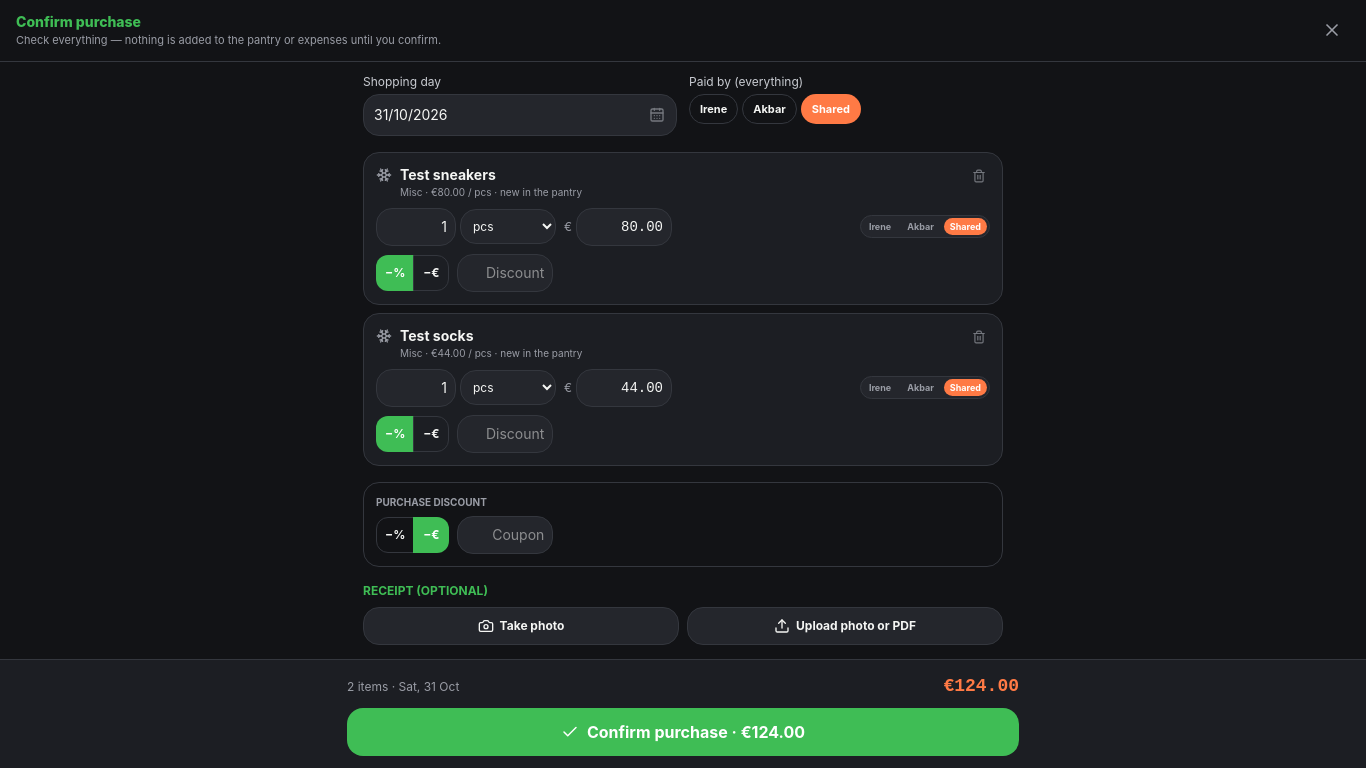
it: Confirm purchase: the coupon share is visible per item before confirming › an item discount and the coupon: "€80.00 → €56.00 (−30%) · coupon −€x.xx → €y.yy"
Type "30" into the field named "Discount for Test sneakers" at point(505, 272), box [457,254,553,292]
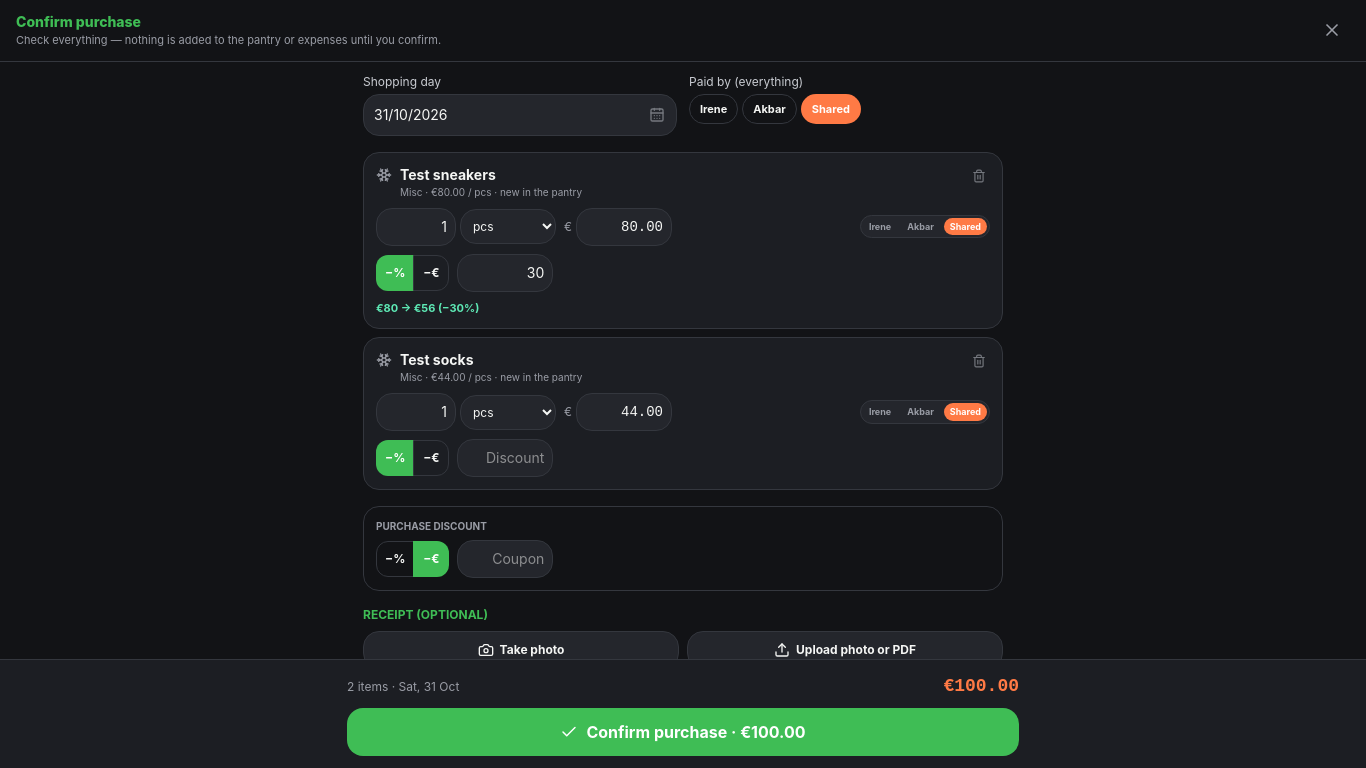
Expected: the text "€80 → €56 (−30%)" is shown, [376,300,479,314]
Type "10" into the field named "Purchase discount" at point(505, 559), box [457,540,553,578]
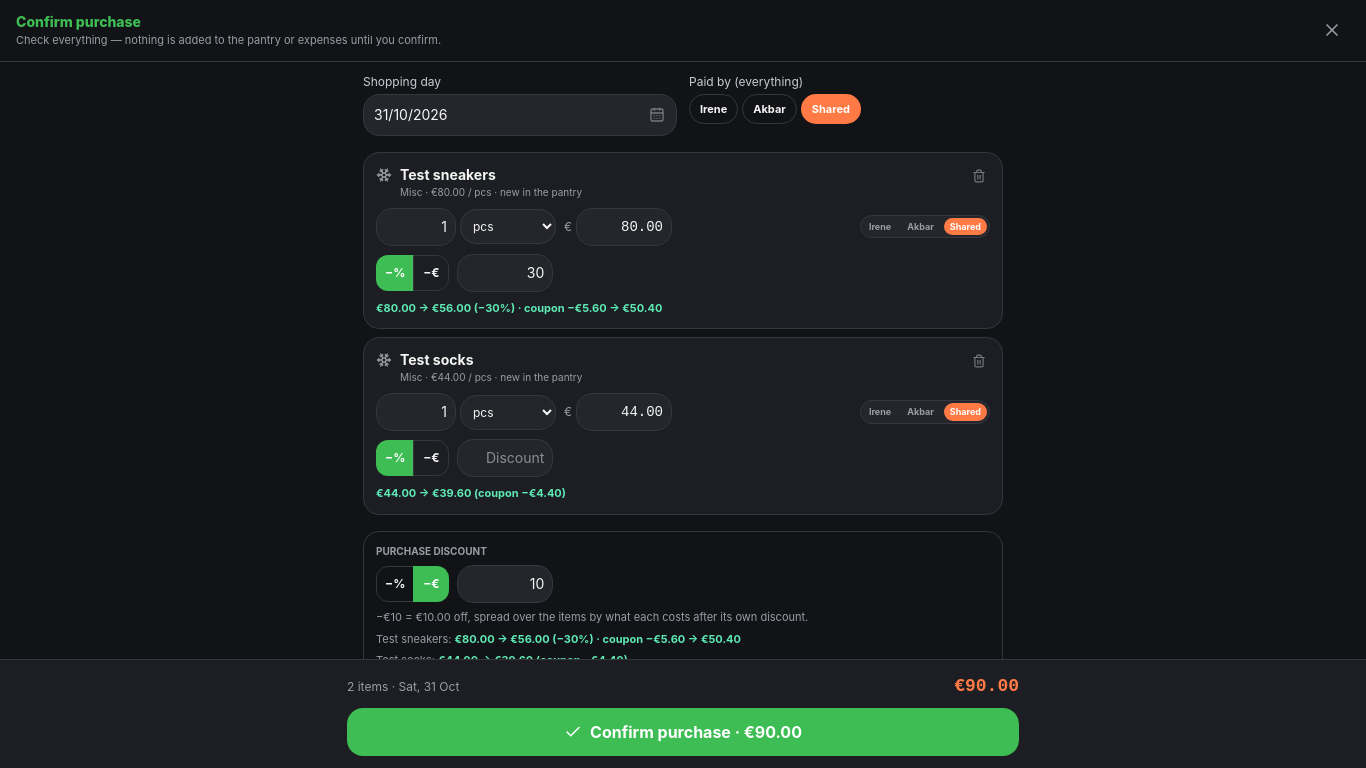
Expected: the text "€80.00 → €56.00 (−30%) · coupon −€5.60 → €50.40" below "Misc · €80.00 / pcs · new in the pantry" is shown, [376,300,662,314]
Expected: the text "€44.00 → €39.60 (coupon −€4.40)" is shown, [376,486,566,500]
